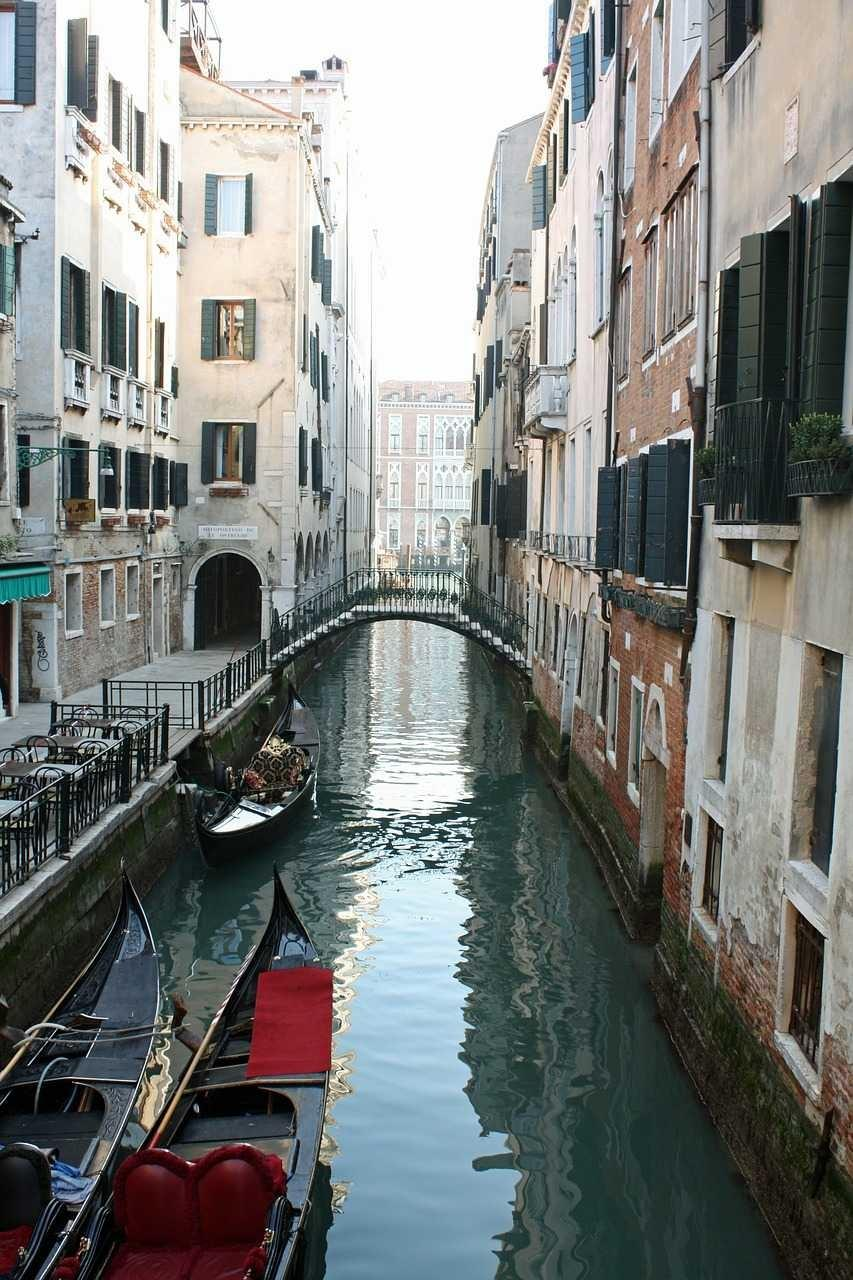kayak: (61, 863, 336, 1280), (1, 868, 175, 1280), (194, 684, 320, 865), (1, 719, 129, 828), (44, 716, 131, 775)
